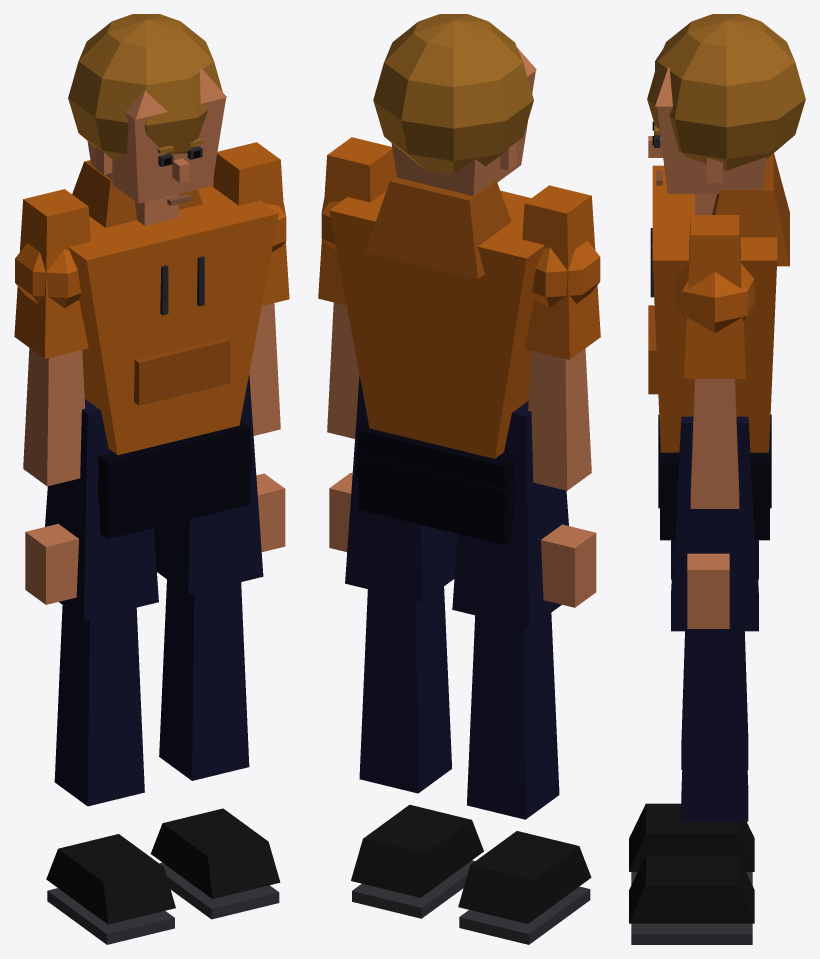
File: npc_cartoon_male_2.glb
3 renders of one model, left to right at view 1: azimuth 30°, elevation 25°; view 2: azimuth 150°, elevation 25°; view 3: azimuth 270°, elevation 25°, orthographic. The views are drawn at different scales.
Parts seen in each view (by area): view 1: torso, head, lowerLegL, lowerLegR, hips, foreArmR, upperLegR, upperArmR, footR, footL, upperLegL, upperArmL (+1 smaller); view 2: torso, head, lowerLegL, lowerLegR, hips, upperLegR, foreArmR, upperArmR, footR, footL, upperLegL, upperArmL (+1 smaller); view 3: head, torso, lowerLegL, footL, upperArmL, upperLegL, foreArmL, footR, hips, lowerLegR.
Part boxes in pixels (x1,y1,x2,y2): torso: [68, 160, 278, 455]; head: [68, 14, 226, 205]; lowerLegL: [159, 579, 249, 780]; lowerLegR: [54, 605, 144, 806]; hips: [97, 421, 252, 539]; foreArmR: [23, 348, 85, 604]; upperLegR: [45, 399, 158, 620]; upperArmR: [14, 189, 90, 358]; footR: [46, 834, 175, 944]; footL: [150, 808, 280, 919]; upperLegL: [154, 374, 263, 594]; upperArmL: [213, 142, 289, 305]; torso: [329, 172, 544, 458]; head: [373, 14, 536, 195]; lowerLegL: [359, 586, 451, 793]; lowerLegR: [467, 613, 559, 819]; hips: [356, 424, 515, 545]; upperLegR: [452, 401, 568, 628]; foreArmR: [528, 348, 596, 607]; upperArmR: [522, 185, 600, 359]; footR: [458, 831, 591, 944]; footL: [351, 804, 483, 918]; upperLegL: [345, 376, 457, 602]; upperArmL: [318, 137, 396, 305]; head: [647, 14, 805, 193]; torso: [648, 153, 789, 452]; lowerLegL: [681, 631, 748, 821]; footL: [629, 855, 754, 944]; upperArmL: [674, 215, 755, 378]; upperLegL: [671, 416, 758, 631]; foreArmL: [687, 379, 739, 628]; footR: [629, 803, 754, 884]; hips: [658, 414, 771, 540]; lowerLegR: [681, 631, 748, 769].
Size of the model in its own units: 0.5686 by 1.82 by 0.3304.
